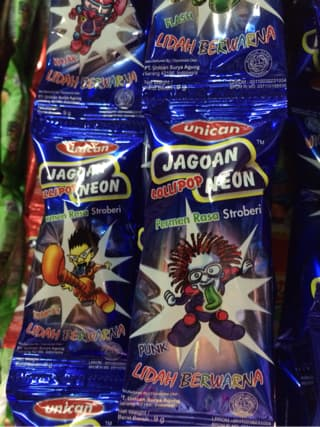jagoan_neon: (118, 100, 287, 424), (8, 119, 145, 376), (145, 1, 287, 100), (32, 1, 147, 120)
